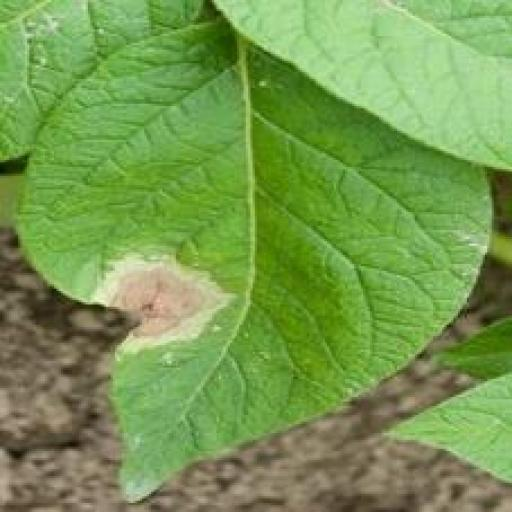Late Blight: (12, 0, 498, 508)
